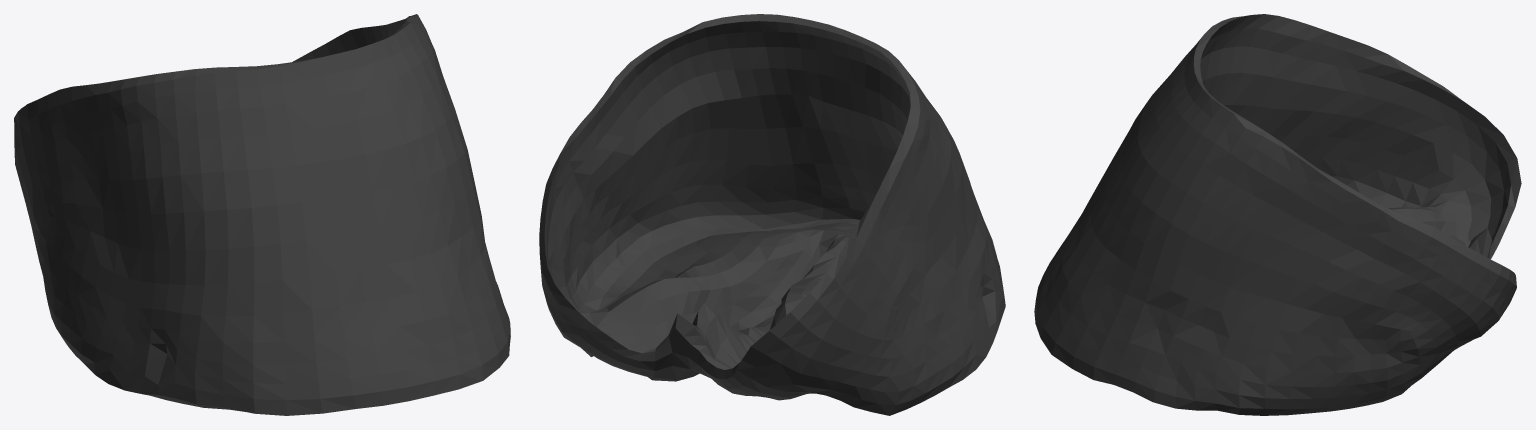
Rendered from Hoof_RHL.glb.
3 renders of one model, left to right at view 1: azimuth 30°, elevation 25°; view 2: azimuth 150°, elevation 25°; view 3: azimuth 270°, elevation 25°, orthographic. The views are drawn at different scales.
Visible parts, largest first — view 1: Hoof_RHL; view 2: Hoof_RHL; view 3: Hoof_RHL.
Boxes of the visible parts, bbox=[...] form: Hoof_RHL: bbox=[14, 14, 510, 415]; Hoof_RHL: bbox=[539, 14, 1005, 415]; Hoof_RHL: bbox=[1034, 14, 1521, 415].
Bounding box in the file's own units: 0.1228 × 0.0972 × 0.1517.
1 material, 1 textured.
